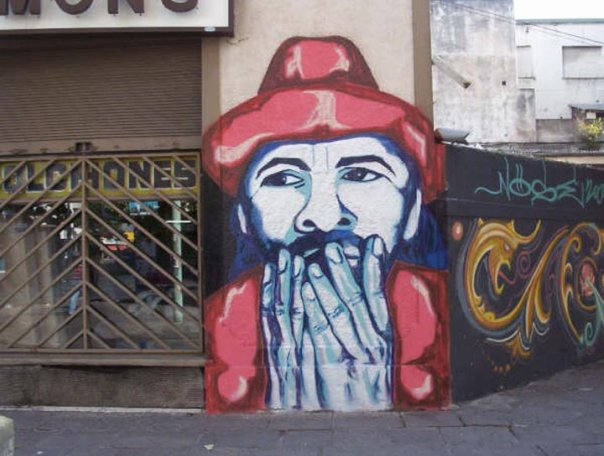graffity: (194, 33, 453, 418), (456, 216, 604, 377), (470, 153, 603, 215)
